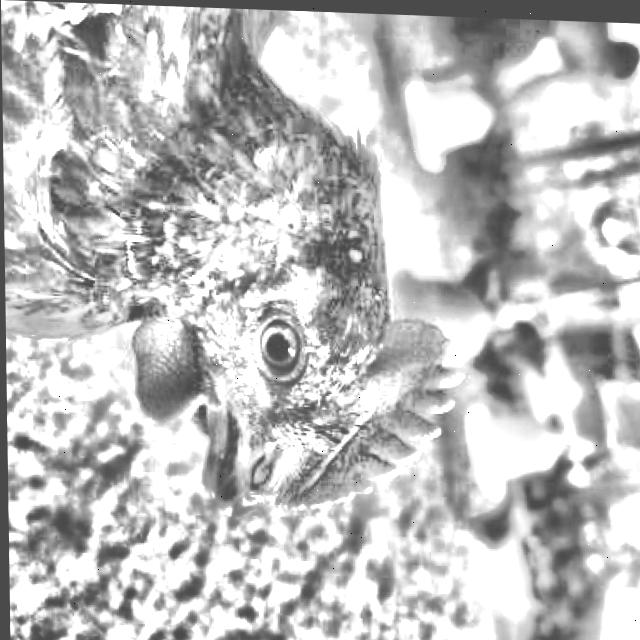Healthy: (237, 295, 299, 415)
